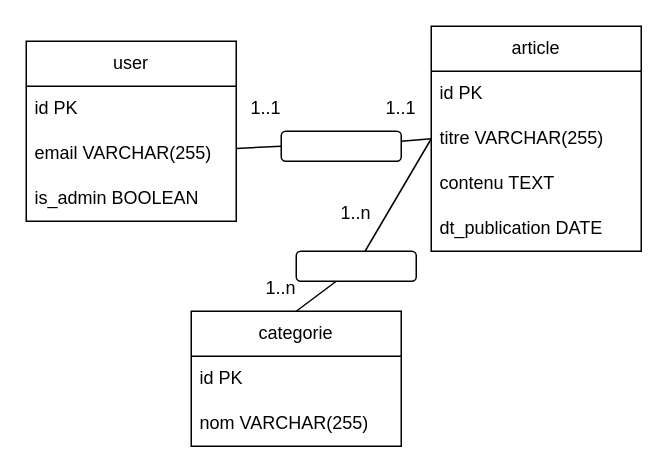
Some shapes in this 668 by 473 pixel diagram are drawn without their labels. Here are the shapes that lost their labels. From the top down, the box of each, then its label:
(280, 130, 401, 161): ecrire
(295, 250, 416, 281): associer
